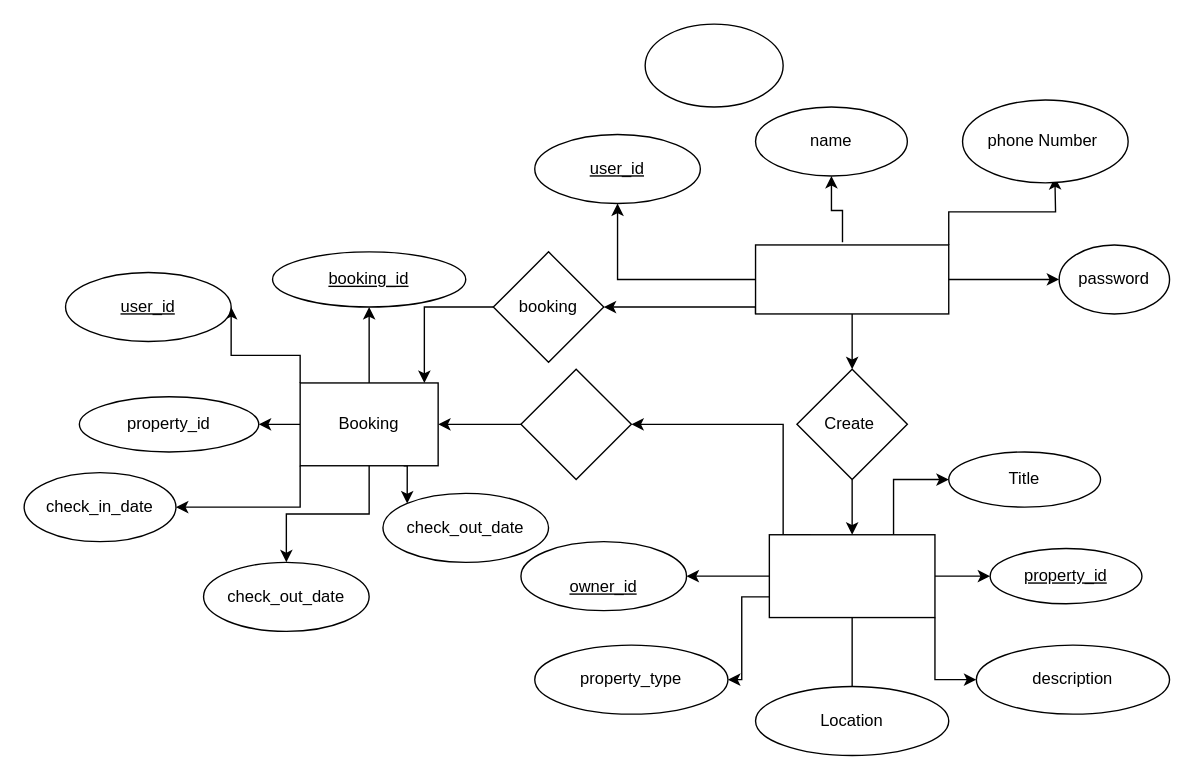
This 1194x780 diagram has some shape labels left out. The box of each missing label's shape, as (x1, y1, x2, y2) in pixels:
booked: (520, 368, 631, 480)
Email: (644, 23, 783, 107)
Property: (768, 533, 935, 618)
User: (754, 244, 949, 314)
